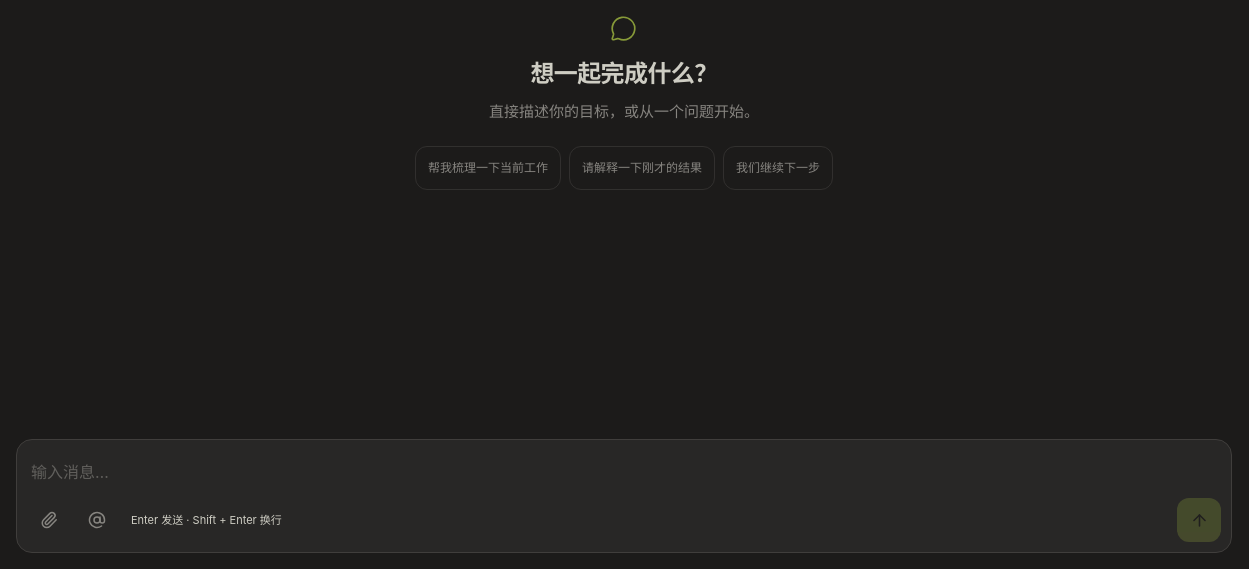
supports arrow selection, Escape and member lookup retry
This screenshot has width=1249, height=569.
Expected: the heading "想一起完成什么？" is shown, x1=530 y1=58 x2=718 y2=90
Click the button named "提及协作成员".
click(97, 520)  # box x1=75 y1=498 x2=119 y2=542
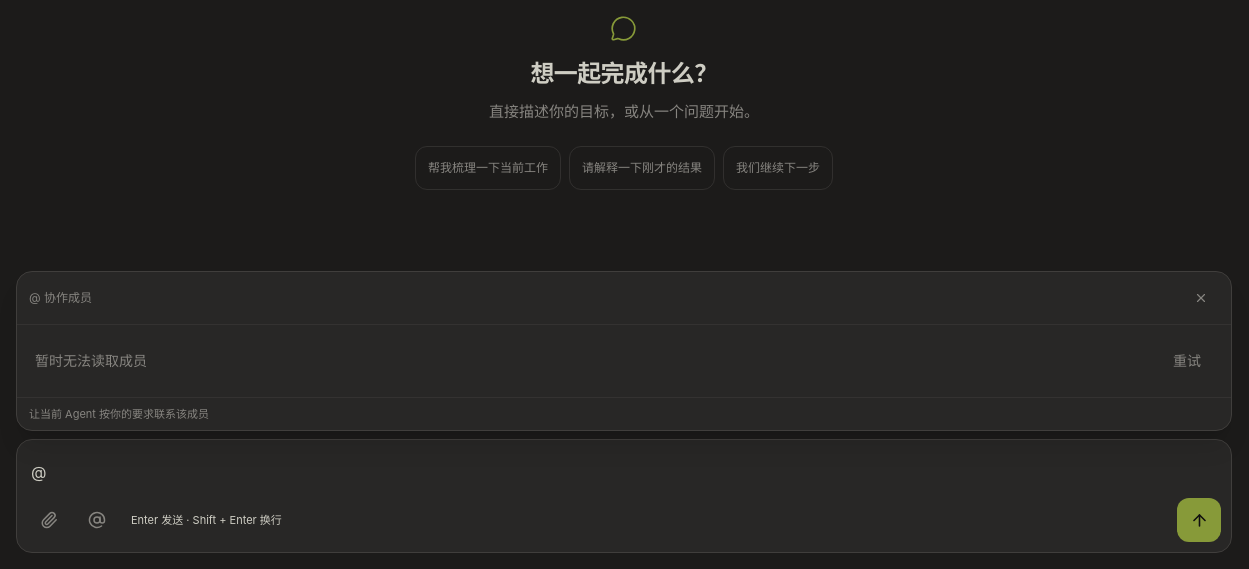
Click the button "重试".
click(1187, 360)  # box x1=1161 y1=338 x2=1213 y2=382
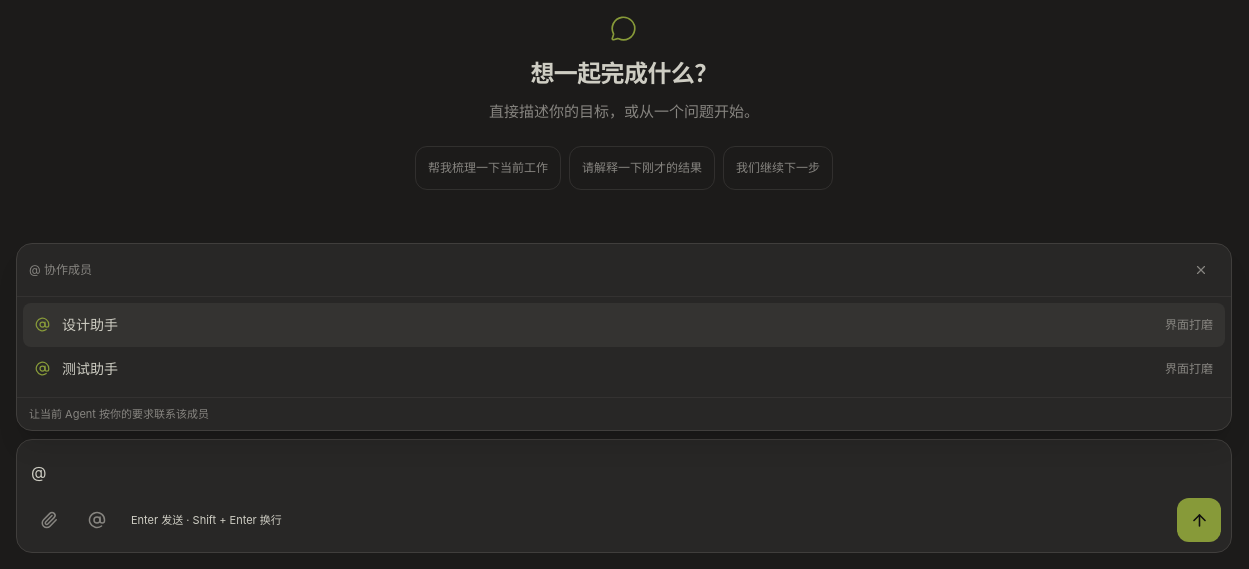
Press ArrowDown in the field, box x1=31 y1=462 x2=46 y2=482
Press Enter in the field, box x1=31 y1=462 x2=46 y2=482
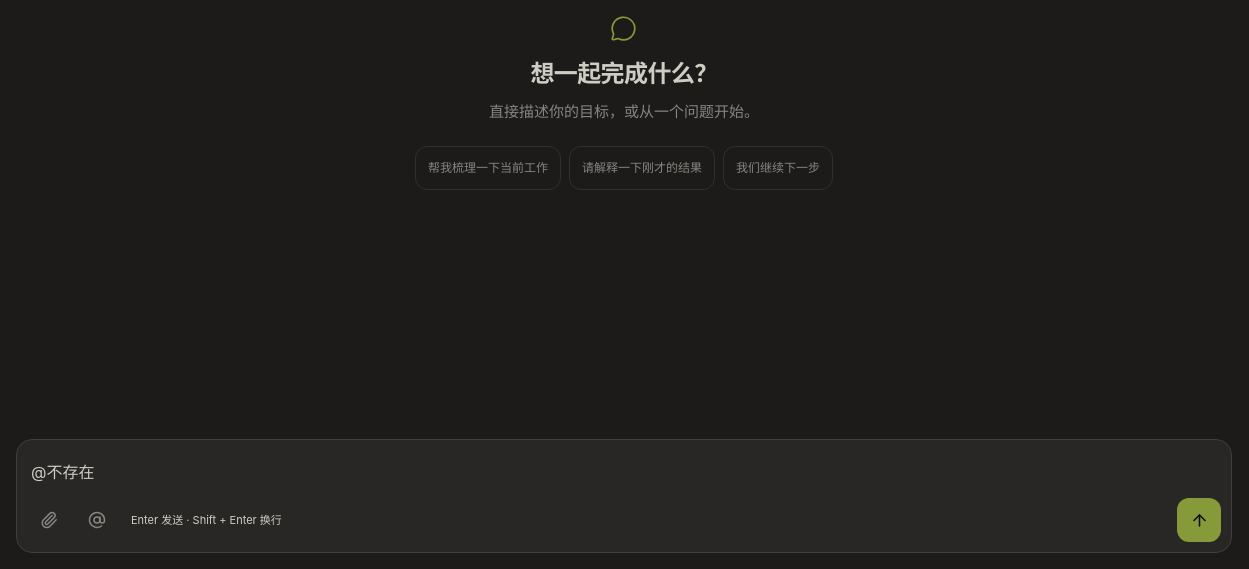
Clear the field at (63, 472), box x1=31 y1=462 x2=94 y2=482
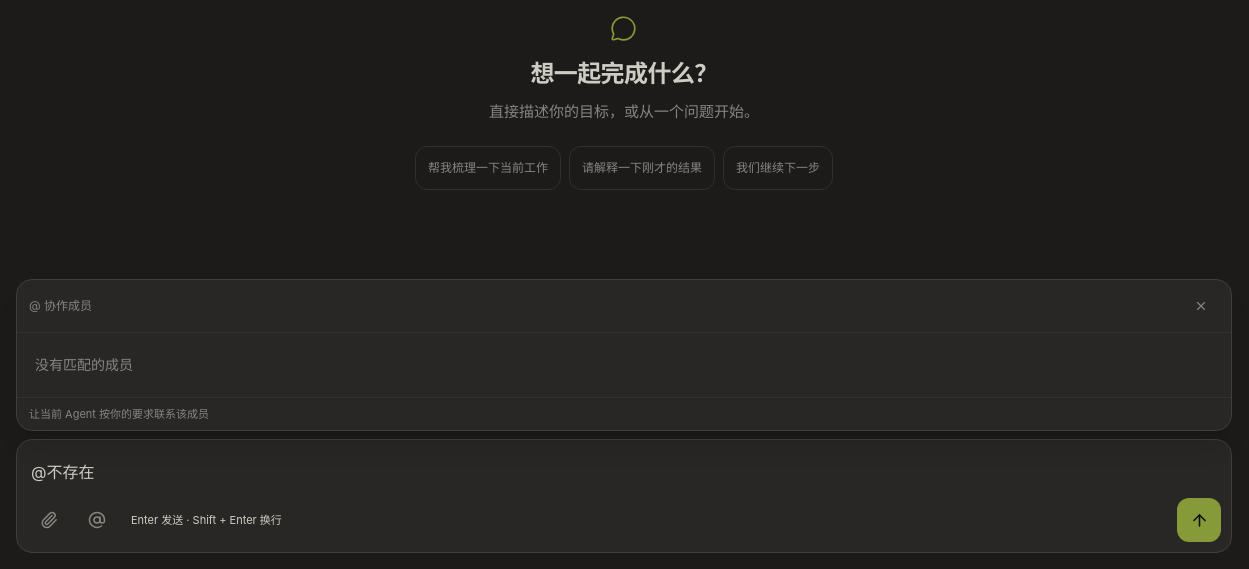
Expected: the text "没有匹配的成员" is shown, x1=35 y1=356 x2=133 y2=372
Press Escape in the field, box x1=31 y1=462 x2=94 y2=482
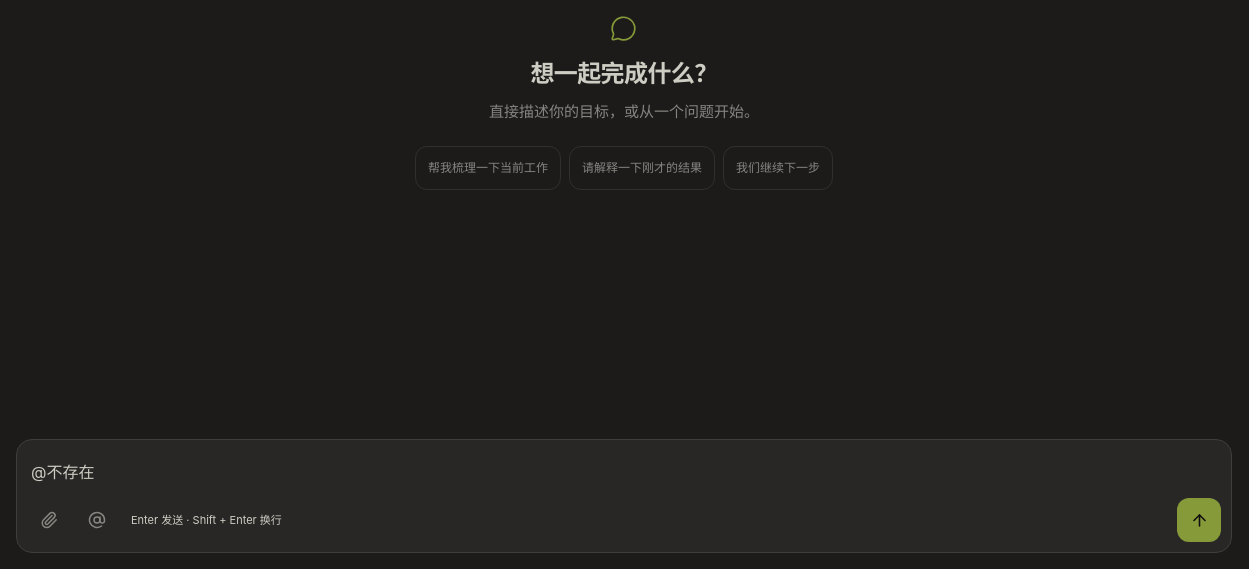
Expected: the list is gone
